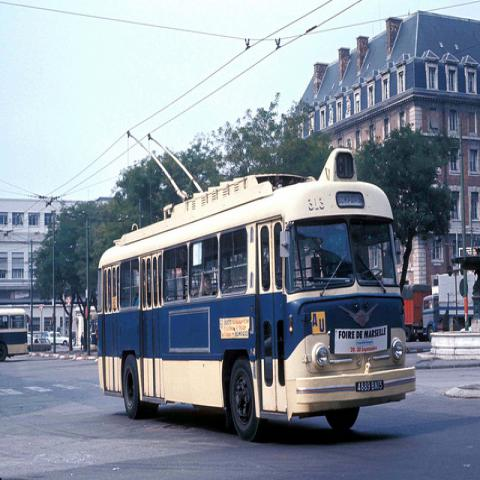bus: (99, 148, 416, 420), (0, 306, 33, 362)
car: (40, 331, 68, 345), (28, 338, 52, 352), (90, 323, 98, 350)
truck: (421, 275, 475, 340), (402, 283, 432, 342)
